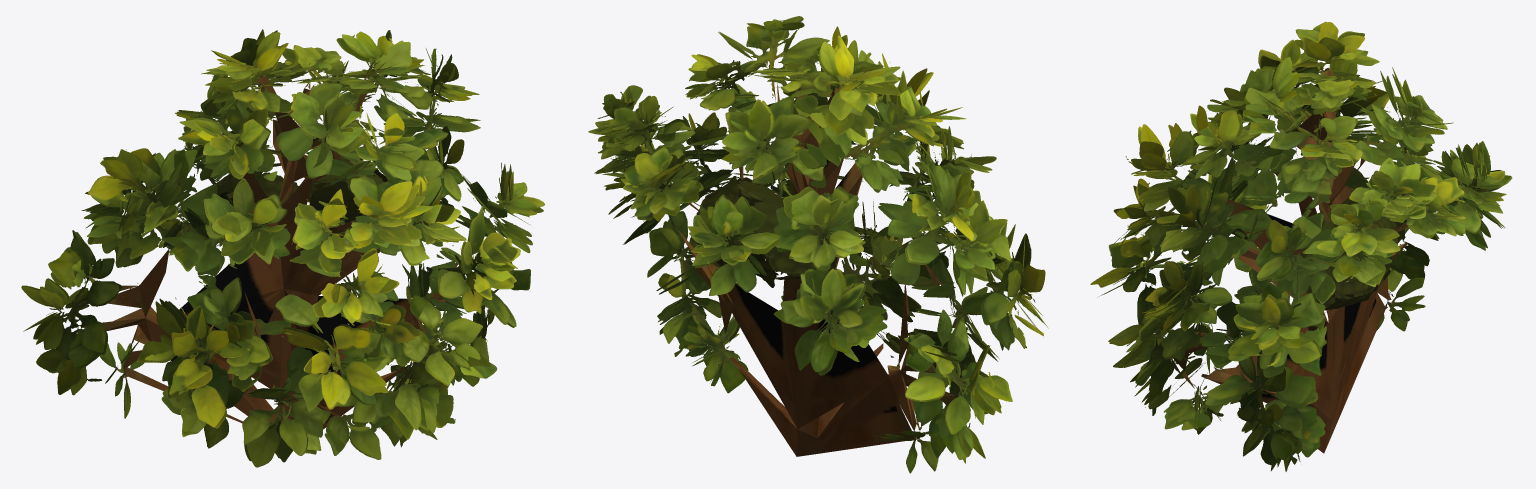
Rendered from cali_lod1.glb.
3 renders of one model, left to right at view 1: azimuth 30°, elevation 25°; view 2: azimuth 150°, elevation 25°; view 3: azimuth 270°, elevation 25°, orthographic. The views are drawn at different scales.
Visible parts, largest first — view 1: cali_lod1; view 2: cali_lod1; view 3: cali_lod1.
Part boxes in pixels (x1,y1,x2,y2): cali_lod1: [21, 29, 544, 467]; cali_lod1: [588, 16, 1048, 473]; cali_lod1: [1090, 21, 1512, 471].
Bounding box in the file's own units: 1.37 × 1.2 × 1.14.
2 materials, 2 textured.
